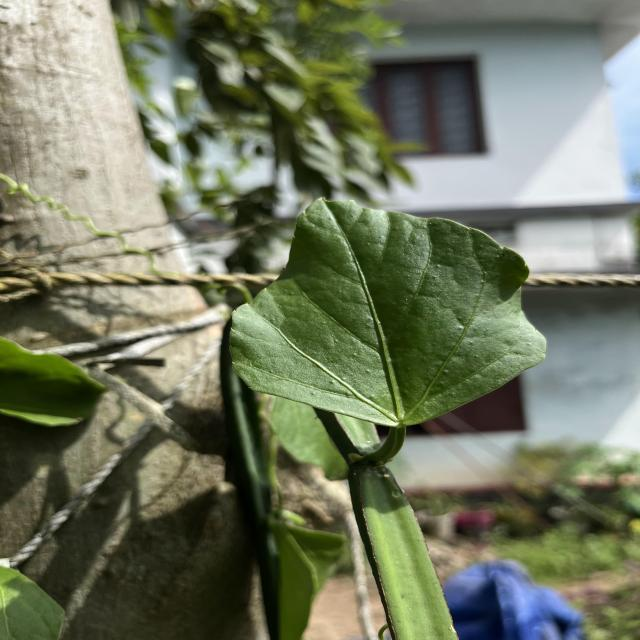Cissus quadrangularis: (225, 192, 550, 430)
